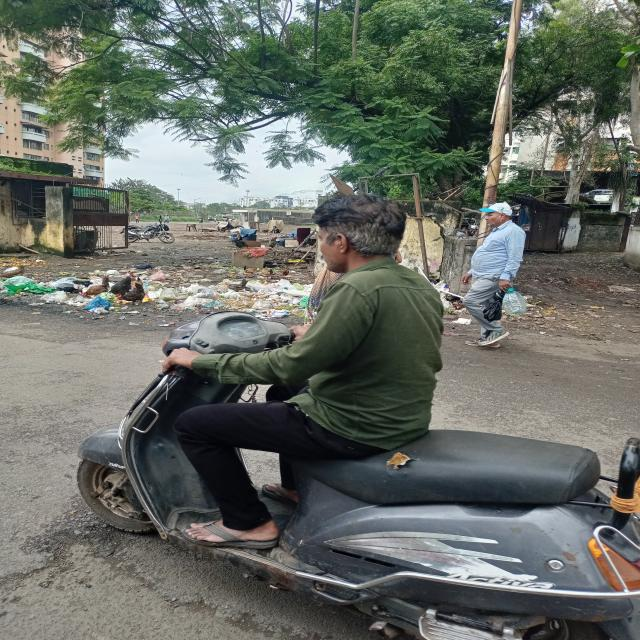garbage: (0, 269, 315, 317)
